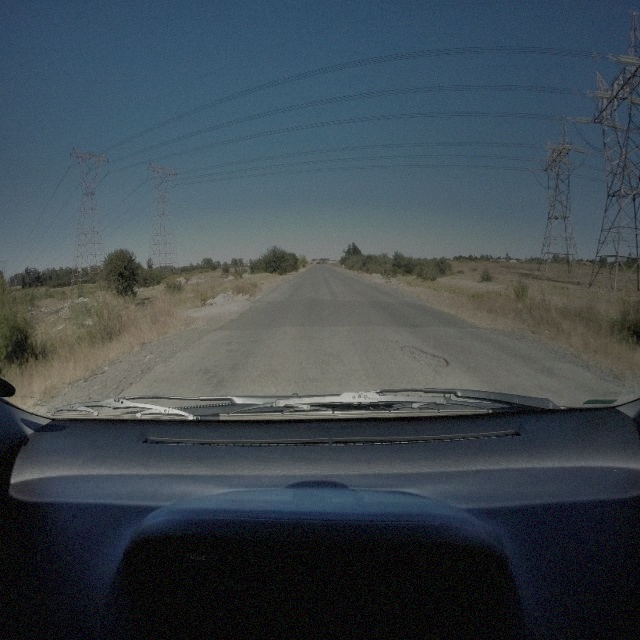pothole: (398, 340, 448, 368)
